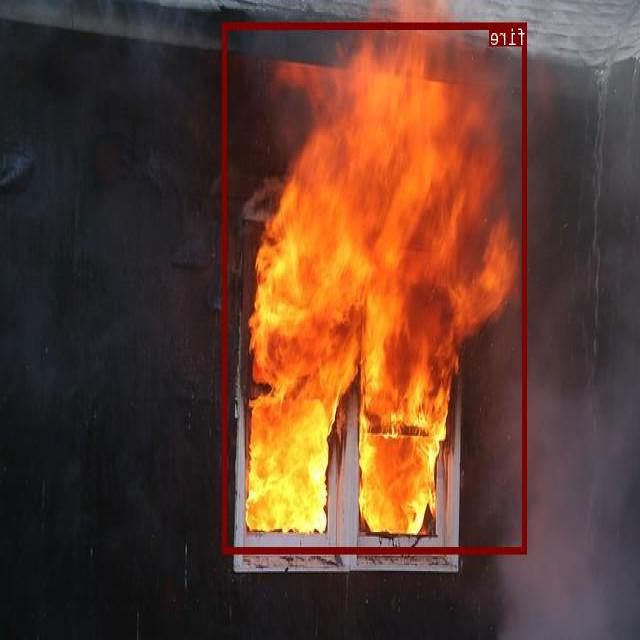fire: (224, 21, 528, 553)
